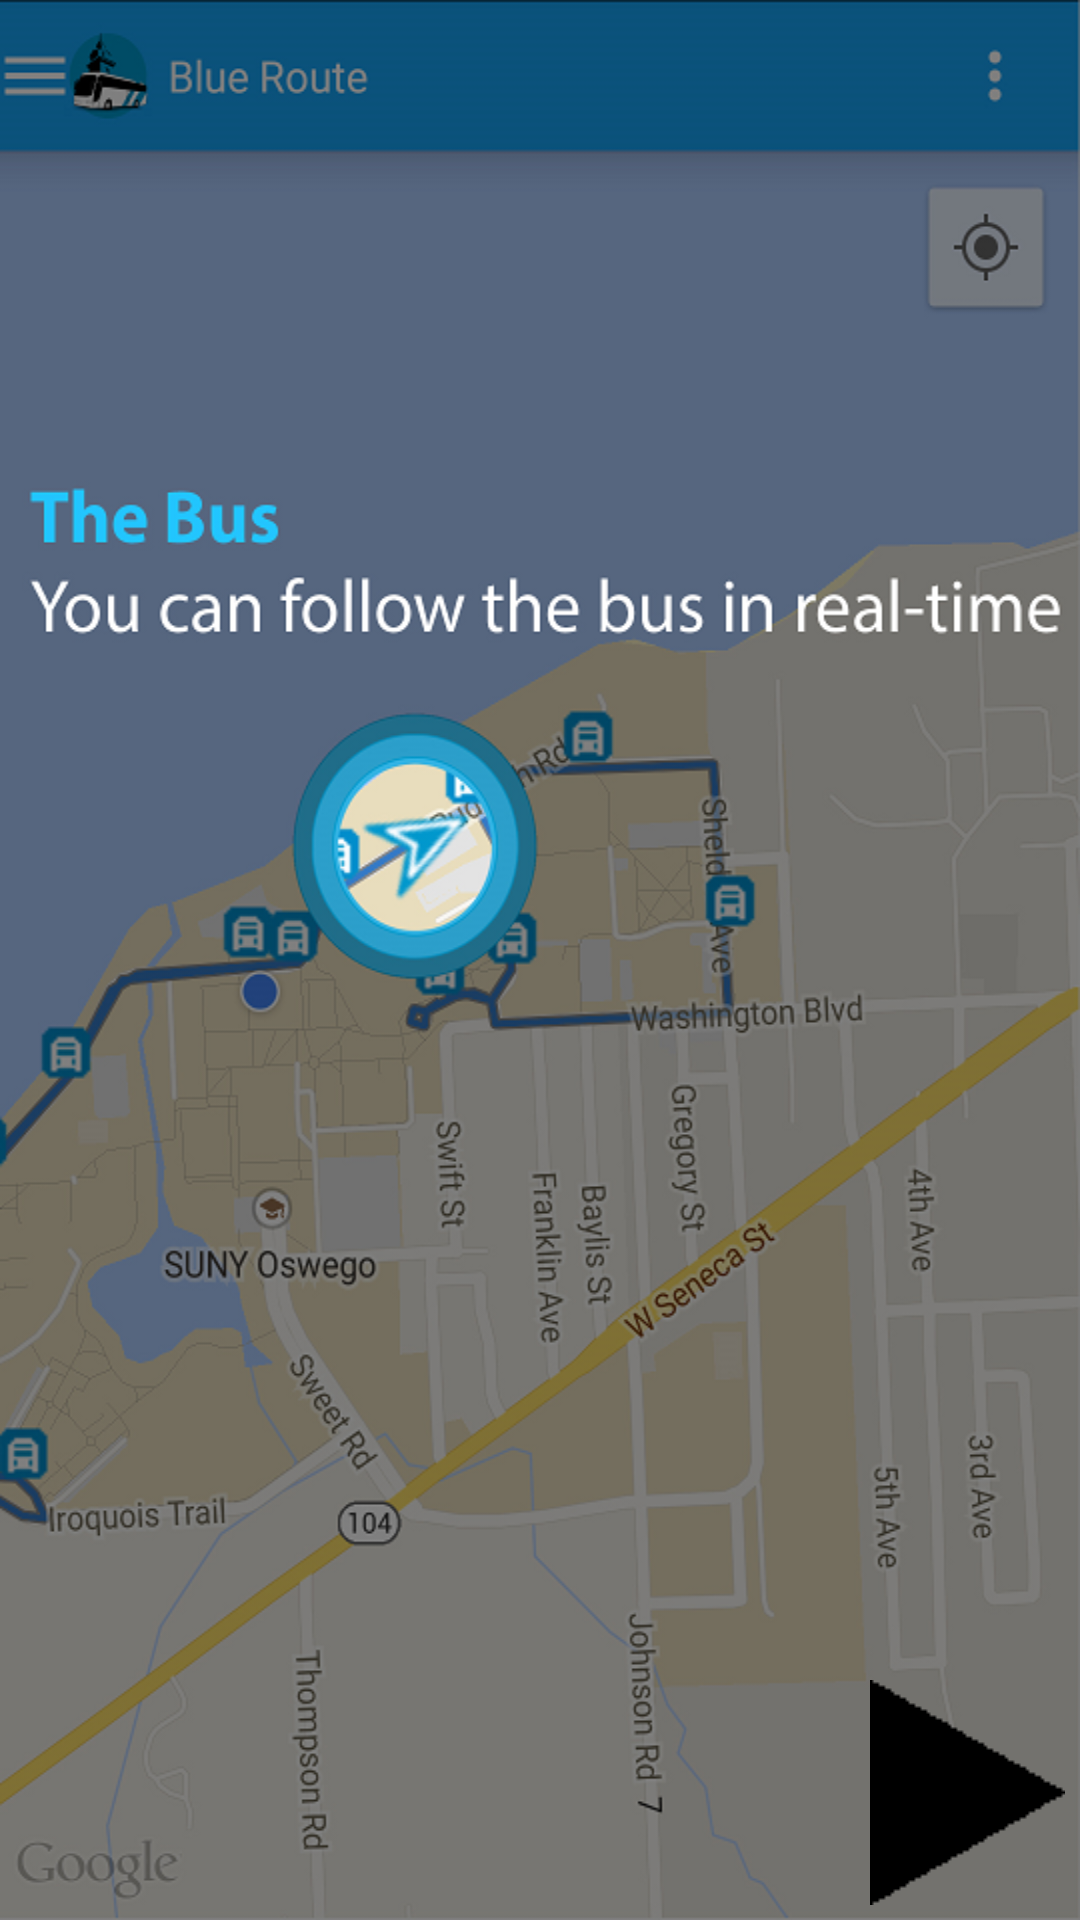

Icons on this 1080×1920 Android screen, each with its box as (x1,y1,x2,y2):
next: (870,1680,1065,1905)
